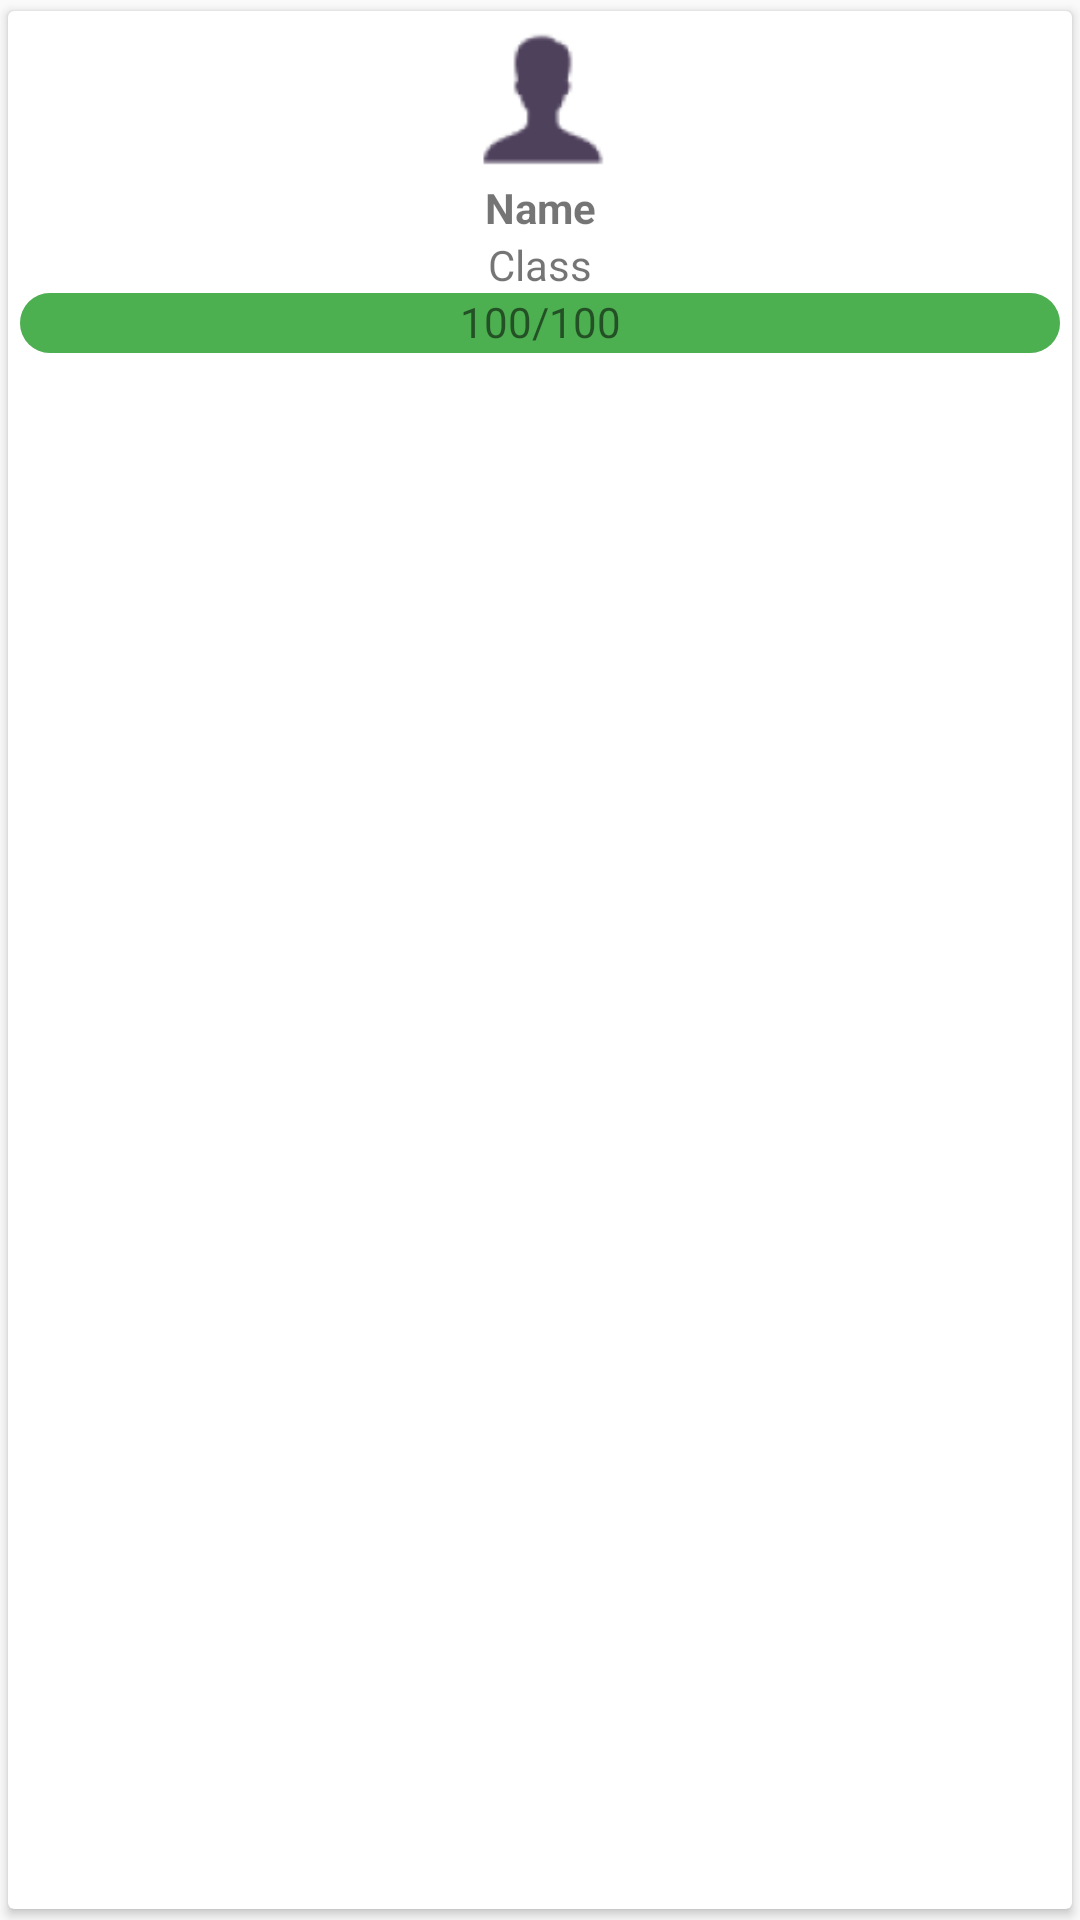

Where to tap for icons on this 1080 × 1920 app screen, as [x,y]:
person: [543,99]
